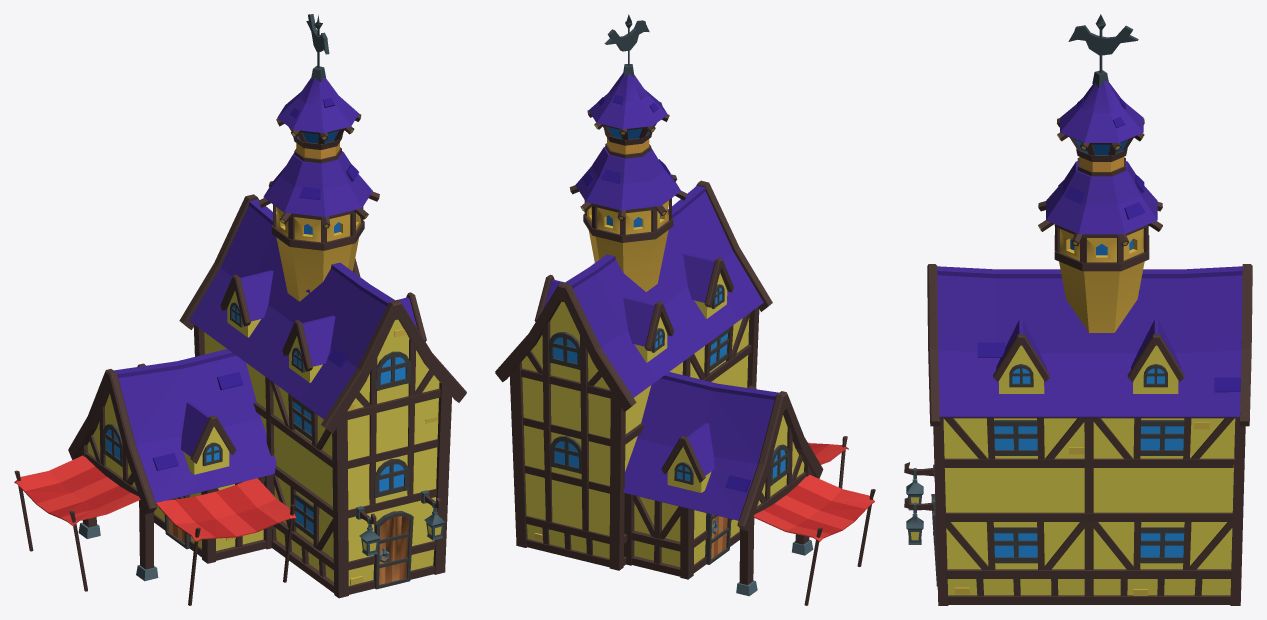
Rendered from House_3-5.fbx.
3 views of the same model, side by side, from view 1: azimuth 30°, elevation 25°; view 2: azimuth 150°, elevation 25°; view 3: azimuth 270°, elevation 25° (orthographic). The views are drawn at different scales.
Parts seen in each view (by area): view 1: Town_BG_Bd_Store_A.003; view 2: Town_BG_Bd_Store_A.003; view 3: Town_BG_Bd_Store_A.003.
Part boxes in pixels (x1,y1,x2,y2): Town_BG_Bd_Store_A.003: [14, 14, 466, 605]; Town_BG_Bd_Store_A.003: [495, 14, 875, 605]; Town_BG_Bd_Store_A.003: [904, 14, 1252, 605].
Size of the model in its own units: 961 by 1470 by 822.
